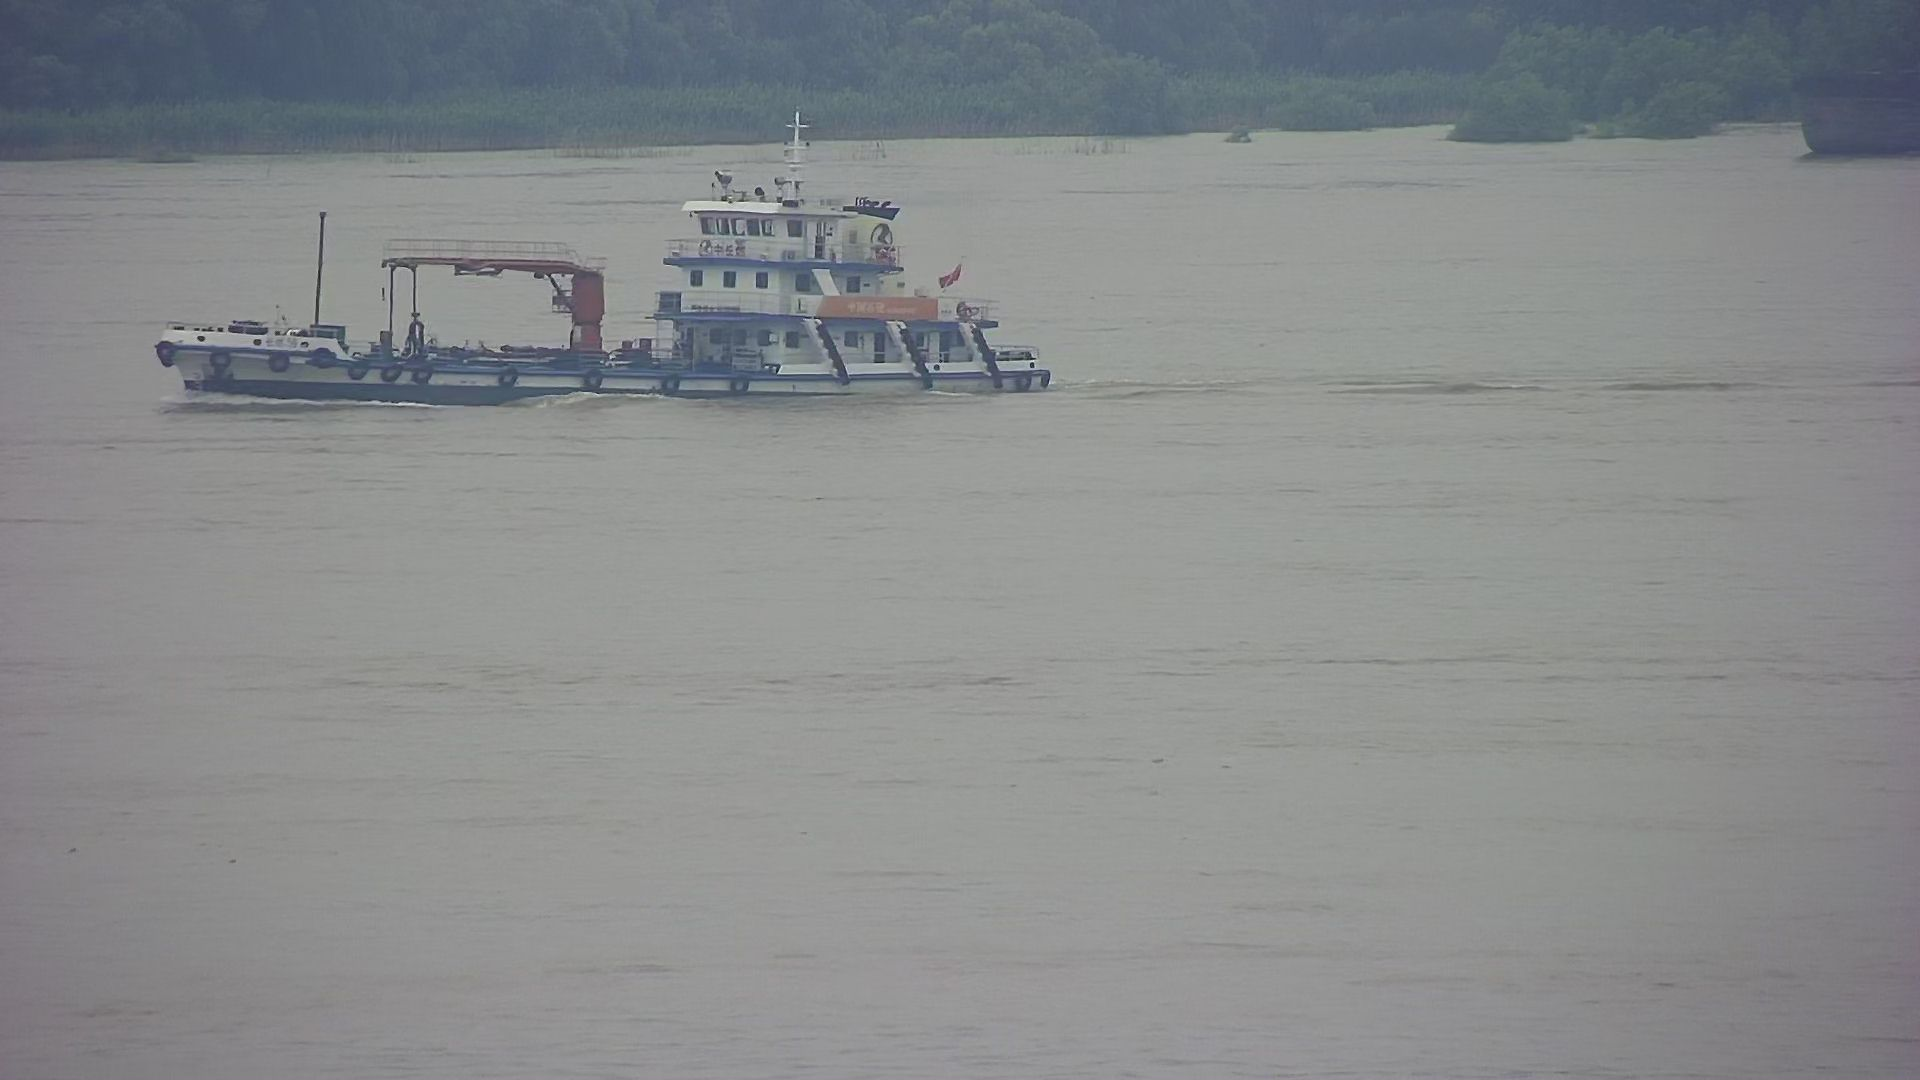ship: (138, 94, 1084, 419)
